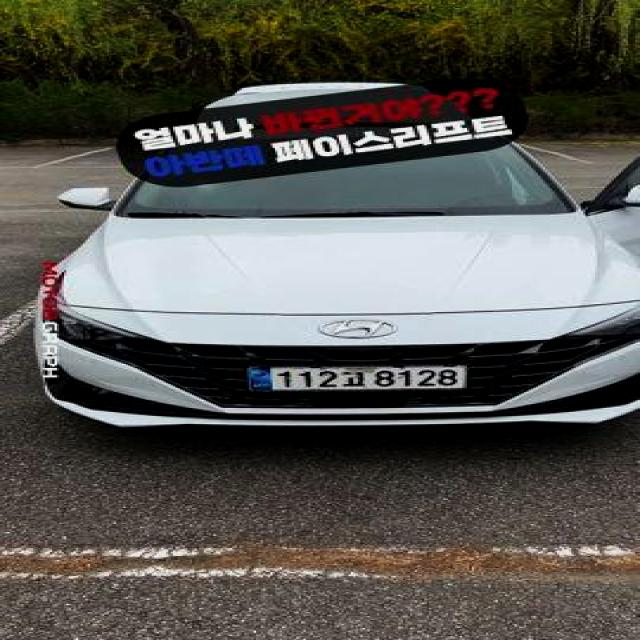car: (35, 78, 640, 450)
illegal_plate: (238, 356, 490, 399)
